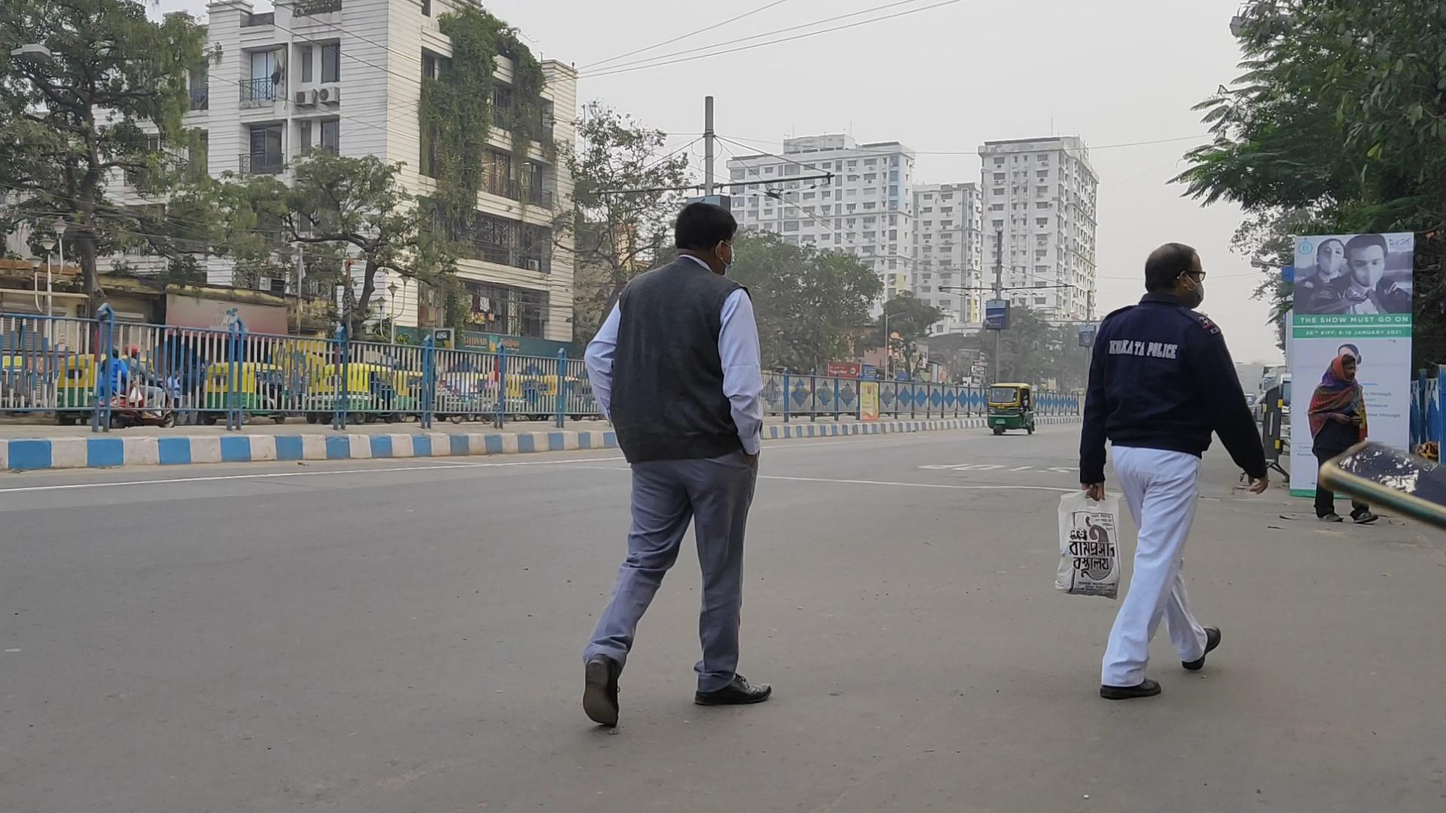Auto: (987, 382, 1036, 436)
